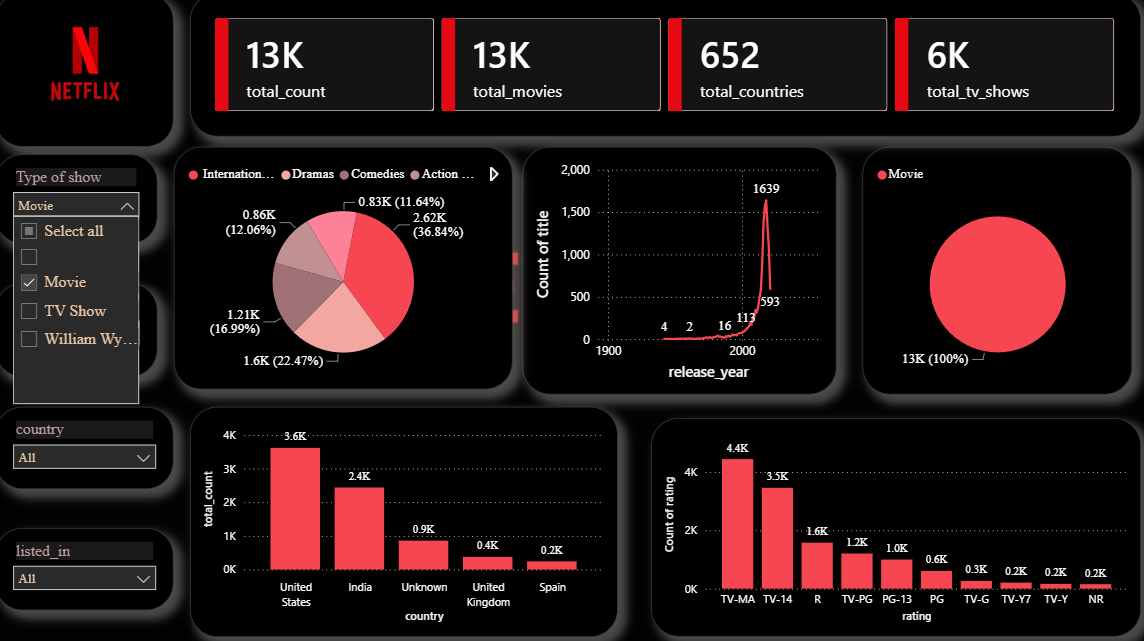

The page's visual inventory and layout, read from the dashboard file:
{"tool":"powerbi","page":{"name":"Page 1","canvas":[1280,720],"ordinal":0},"visuals":[{"type":"pieChart","fields":{"Category":["netflix_titles.type"],"Y":["netflix_titles.total_count"]},"box":[952.3,168.8,296.4,271.7],"z":0},{"type":"cardVisual","fields":{"Data":["netflix_titles.total_count","netflix_titles.total_movies","netflix_titles.total_countries","netflix_titles.total_tv_shows"]},"box":[214.1,0,1044.3,157.8],"z":1000},{"type":"image","box":[0,0,196.2,168.8],"z":2000},{"type":"lineChart","fields":{"Category":["netflix_titles.release_year"],"Y":["CountNonNull(netflix_titles.title)"]},"box":[579.1,168.8,344.4,271.7],"z":3000},{"type":"columnChart","fields":{"Category":["netflix_titles.country"],"Y":["netflix_titles.total_count"]},"box":[214.1,454.2,469.3,252.5],"z":4000},{"type":"columnChart","fields":{"Category":["netflix_titles.rating"],"Y":["CountNonNull(netflix_titles.rating)"]},"box":[720.4,466.6,537.9,240.1],"z":5000},{"type":"pieChart","fields":{"Y":["CountNonNull(netflix_titles.listed_in)"],"Category":["netflix_titles.listed_in"]},"box":[196.2,168.8,371.9,266.2],"z":6000},{"type":"slicer","fields":{"Values":["netflix_titles.type"]},"box":[0,177,178.4,98.8],"z":7000},{"type":"slicer","fields":{"Values":["netflix_titles.release_year"]},"box":[0,318.4,178.4,102.9],"z":8000},{"type":"slicer","fields":{"Values":["netflix_titles.country"]},"box":[0,454.2,196.2,90.6],"z":9000},{"type":"slicer","fields":{"Values":["netflix_titles.listed_in"]},"box":[0,587.3,196.2,90.6],"z":9001}]}

Visuals, with their boxes in screenshot pixels (x1, y1, x2, y2), scaled from the page's 1280x720 canvas onto the 1144x641 screenshot:
pieChart - netflix_titles.type x netflix_titles.total_count: (851,150,1116,392)
cardVisual - netflix_titles.total_count x netflix_titles.total_movies: (191,0,1125,140)
image: (0,0,175,150)
lineChart - netflix_titles.release_year x CountNonNull(netflix_titles.title): (518,150,825,392)
columnChart - netflix_titles.country x netflix_titles.total_count: (191,404,611,629)
columnChart - netflix_titles.rating x CountNonNull(netflix_titles.rating): (644,415,1125,629)
pieChart - CountNonNull(netflix_titles.listed_in) x netflix_titles.listed_in: (175,150,508,387)
slicer - netflix_titles.type: (0,158,159,246)
slicer - netflix_titles.release_year: (0,283,159,375)
slicer - netflix_titles.country: (0,404,175,485)
slicer - netflix_titles.listed_in: (0,523,175,604)
